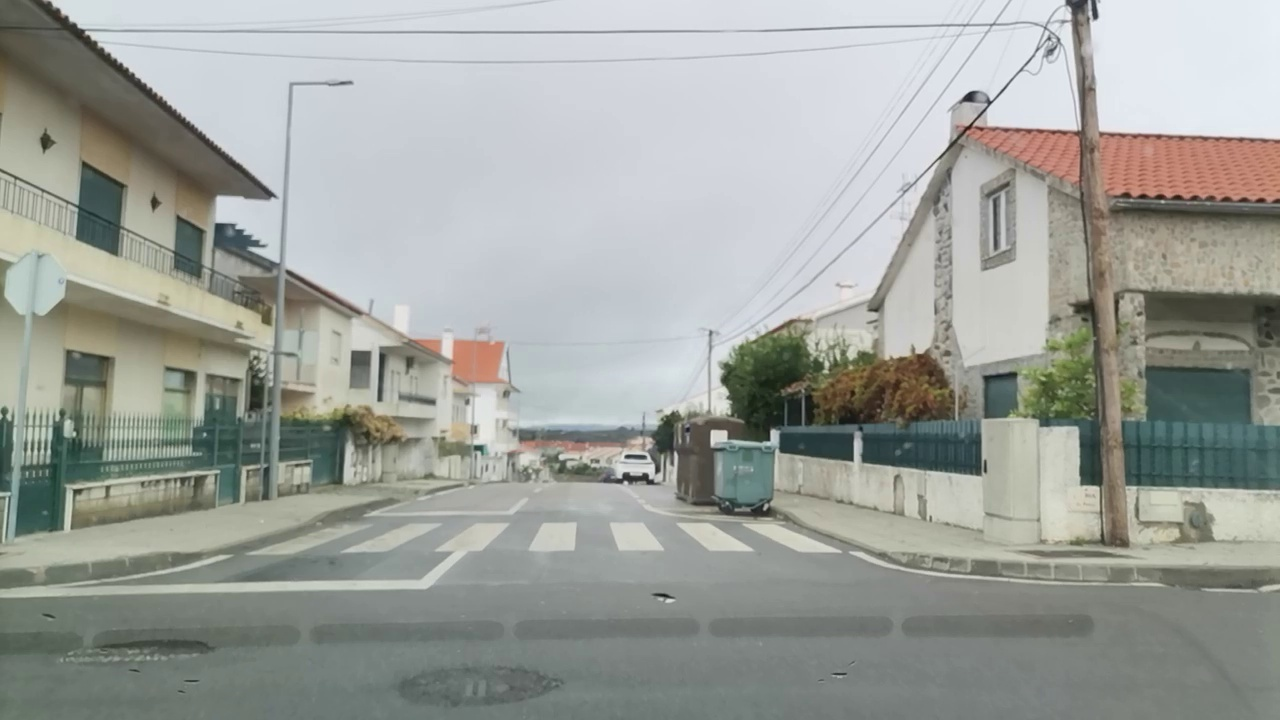Stairs: (245, 519, 844, 559)
